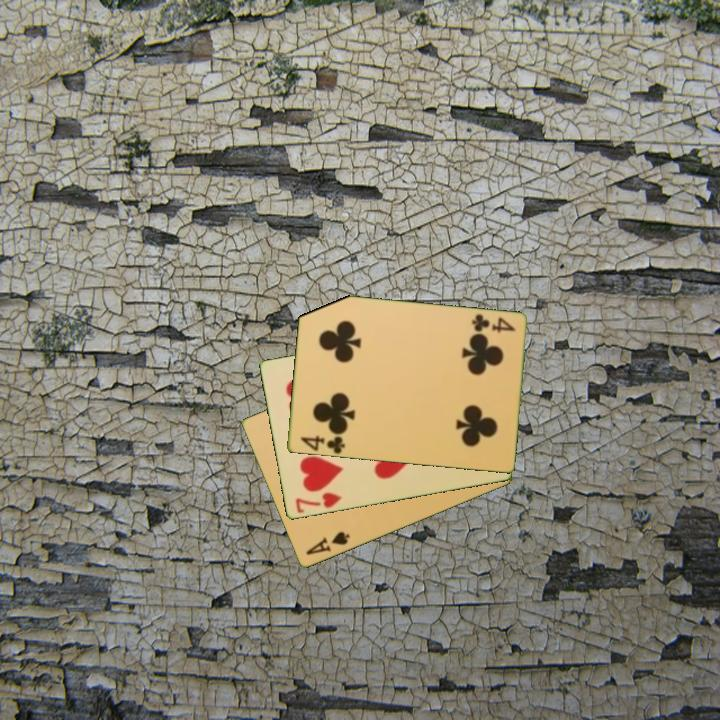4c: (468, 311, 518, 336), (296, 432, 348, 456)
7h: (292, 489, 345, 516)
As: (302, 528, 353, 558)
